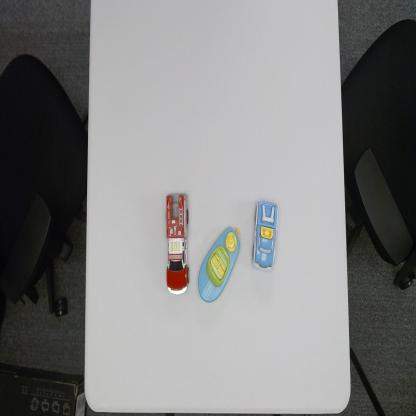Boat: (197, 224, 242, 305)
Car: (250, 196, 280, 272)
Firetruck: (164, 191, 190, 296)
